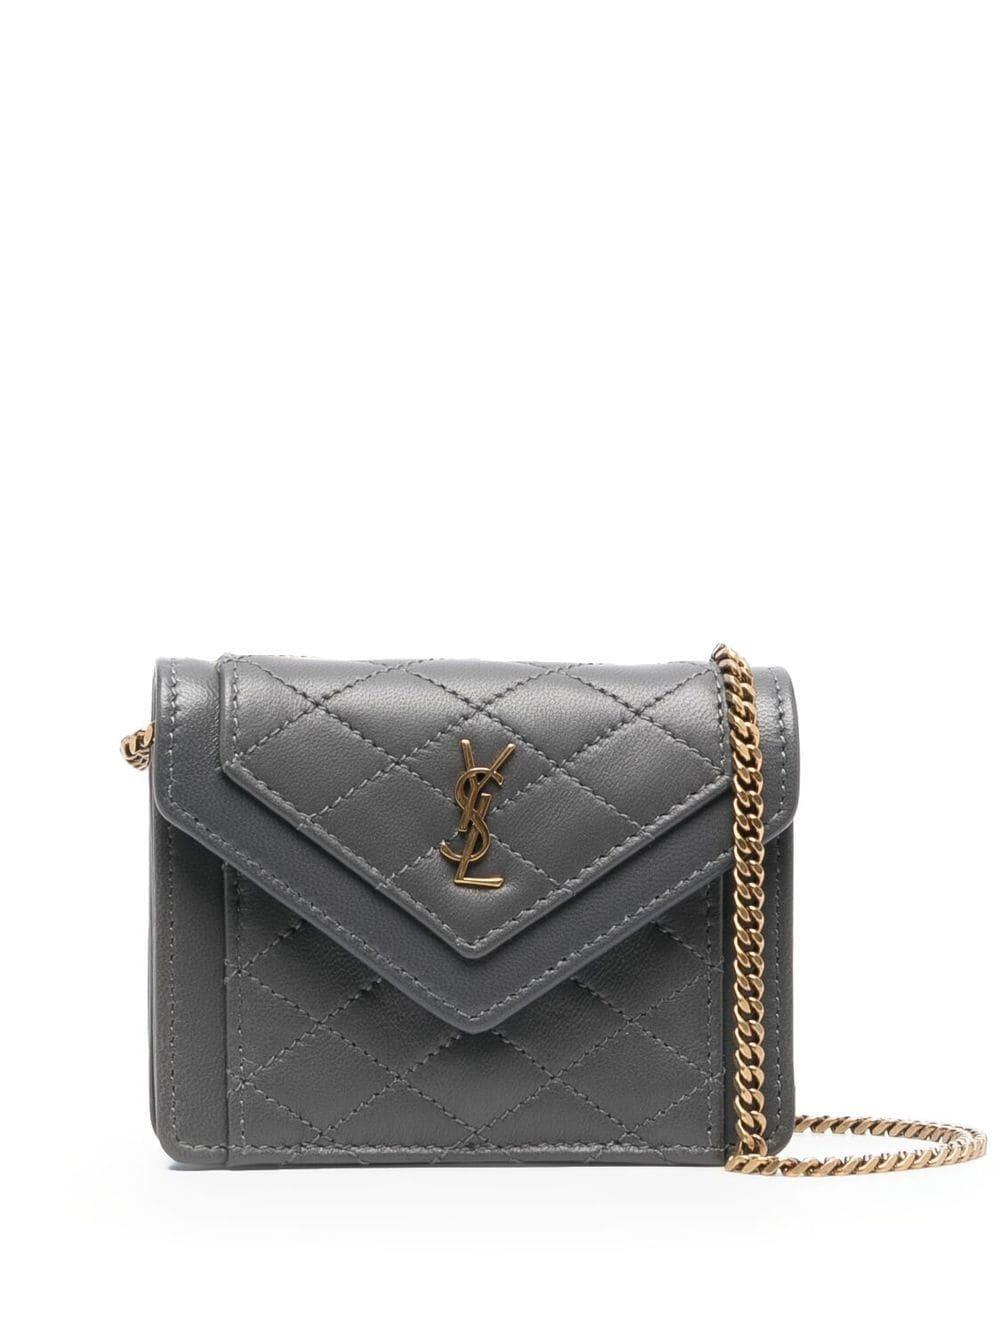YVES-SAINT-LAURENT: (440, 739, 517, 888)
